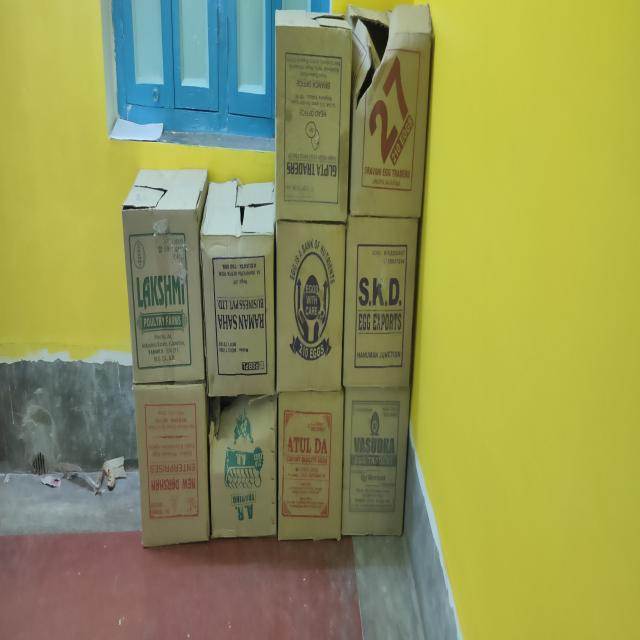squeeze: (197, 365, 271, 471), (335, 17, 400, 109)
